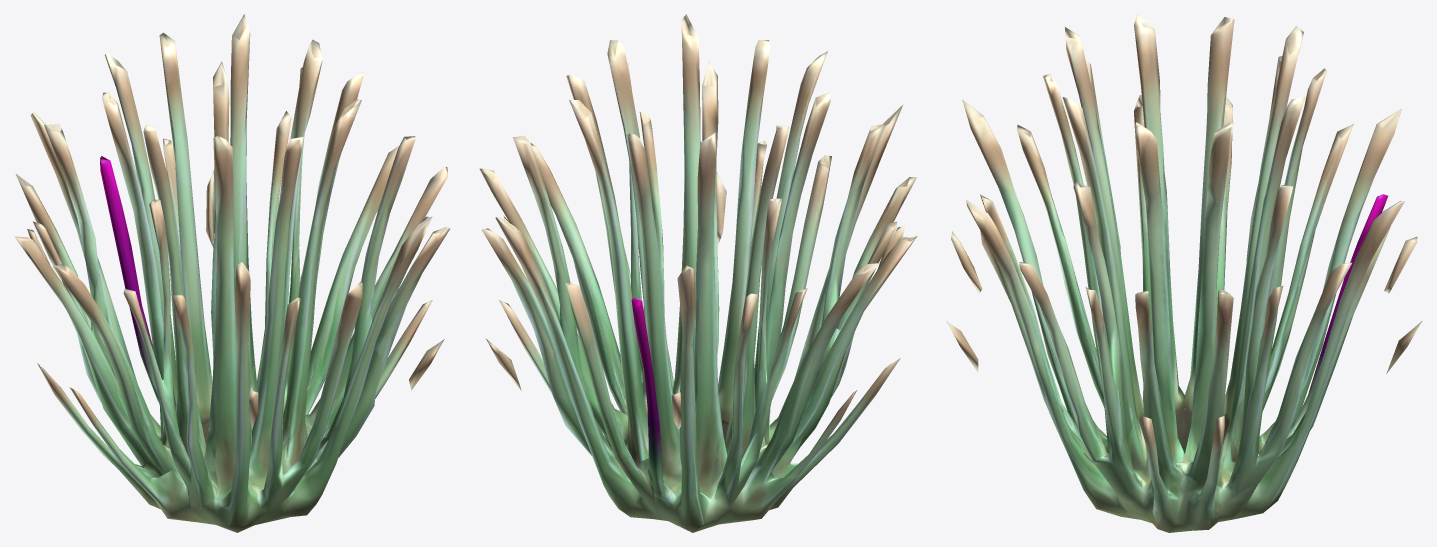
The picture shows the model from 3 angles, left to right: view 1: azimuth 30°, elevation 25°; view 2: azimuth 150°, elevation 25°; view 3: azimuth 270°, elevation 25°; orthographic projection. The views are drawn at different scales.
Visible parts, largest first — view 1: Mesh_0; view 2: Mesh_0; view 3: Mesh_0.
Part boxes in pixels (bbox=[...]): Mesh_0: bbox=[14, 14, 449, 532]; Mesh_0: bbox=[479, 14, 917, 532]; Mesh_0: bbox=[947, 14, 1421, 532].
Size of the model in its own units: 1.85 by 1.91 by 1.85.
Materials: 1 (1 with a texture image).
